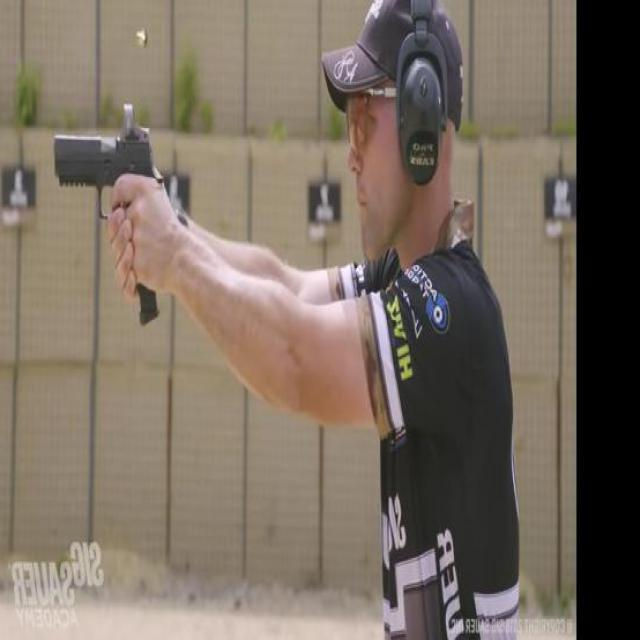Gun: (53, 118, 164, 324)
